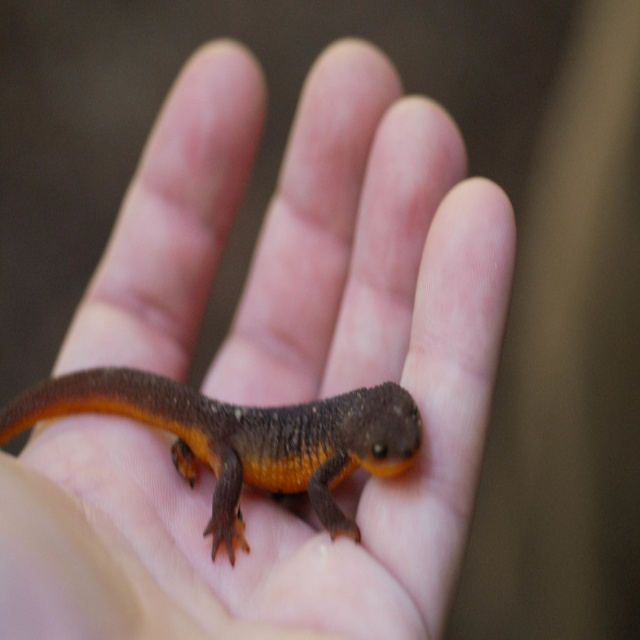Lizard: (0, 366, 423, 569)
